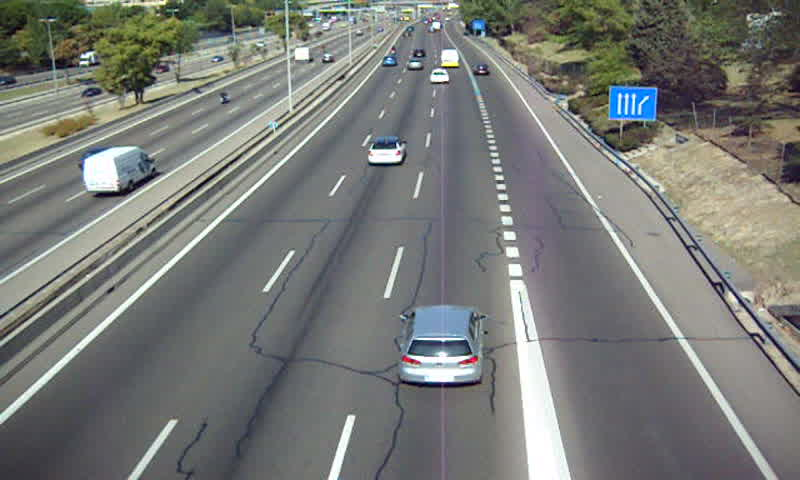car: (399, 304, 483, 385), (366, 137, 407, 165), (429, 70, 451, 83), (472, 64, 490, 78)
